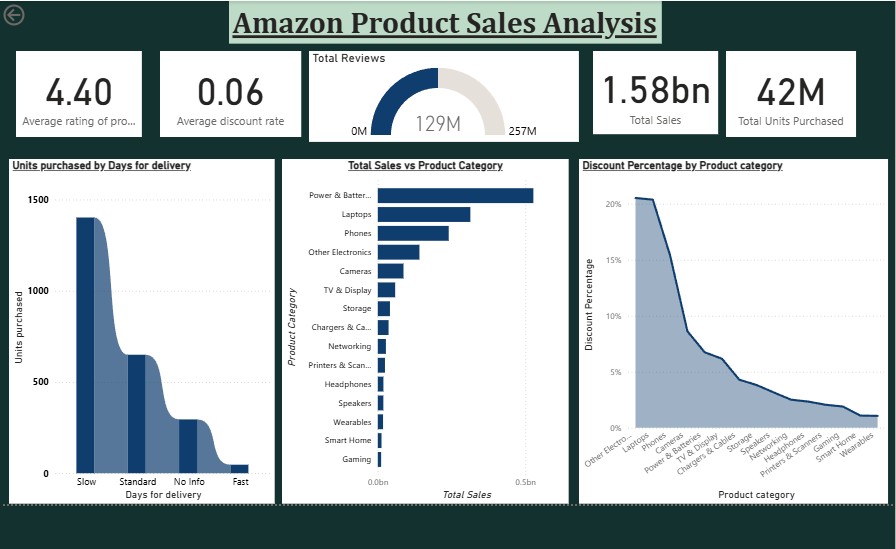

What the dashboard file says about the page in this screenshot:
{"tool":"powerbi","page":{"name":"Page 1","canvas":[1280,720],"ordinal":0},"visuals":[{"type":"card","fields":{"Values":["Sum(amazon_products_sales_data_clea.units_purchased)"]},"box":[1038.3,71.5,185.9,123],"z":0},{"type":"card","fields":{"Values":["Avg(amazon_products_sales_data_clea.product_rating)"]},"box":[22.9,71.5,180.2,123],"z":1},{"type":"card","fields":{"Values":["Avg(amazon_products_sales_data_clea.discount_percentage)"]},"box":[228.8,71.5,201.7,123],"z":2},{"type":"card","fields":{"Values":["Sum(amazon_products_sales_data_clea.sales)"]},"box":[848.1,71.5,178.8,118.7],"z":3},{"type":"barChart","title":"Total Sales vs Product Category","fields":{"Category":["amazon_products_sales_data_clea.product_category"],"Y":["Sum(amazon_products_sales_data_clea.sales)"]},"box":[403.3,226,410.5,493.4],"z":4},{"type":"ribbonChart","fields":{"Category":["amazon_products_sales_data_clea.delivery_days"],"Y":["Avg(amazon_products_sales_data_clea.units_purchased)"]},"box":[12.9,226,380.4,493.4],"z":6},{"type":"areaChart","fields":{"Category":["amazon_products_sales_data_clea (2).product_category"],"Y":["Divide(CountNonNull(amazon_products_sales_data_clea (2).discount_percentage), ScopedEval(CountNonNull(amazon_products_sa","select"]},"box":[828.1,226,441.9,493.4],"z":7},{"type":"actionButton","box":[0,0,100,40],"z":8},{"type":"gauge","fields":{"Y":["Sum(amazon_products_sales_data_clea (2).total_reviews)"]},"box":[441.9,71.5,386.1,130.1],"z":9},{"type":"textbox","box":[327.5,0,619.3,61.5],"z":10}]}

Visuals, with their boxes in screenshot pixels (x1, y1, x2, y2):
card - Sum(amazon_products_sales_data_clea.units_purchased): 721,49,850,134
card - Avg(amazon_products_sales_data_clea.product_rating): 20,49,145,134
card - Avg(amazon_products_sales_data_clea.discount_percentage): 163,49,302,134
card - Sum(amazon_products_sales_data_clea.sales): 590,49,714,131
"Total Sales vs Product Category" barChart: 283,156,566,497
ribbonChart - amazon_products_sales_data_clea.delivery_days x Avg(amazon_products_sales_data_clea.units_purchased): 14,156,276,497
areaChart - amazon_products_sales_data_clea (2).product_category x Divide(CountNonNull(amazon_products_sales_data_clea (2).discount_percentage), ScopedEval(CountNonNull(amazon_products_sa: 576,156,881,497
actionButton: 5,0,74,28
gauge - Sum(amazon_products_sales_data_clea (2).total_reviews): 310,49,576,139
textbox: 231,0,658,42
